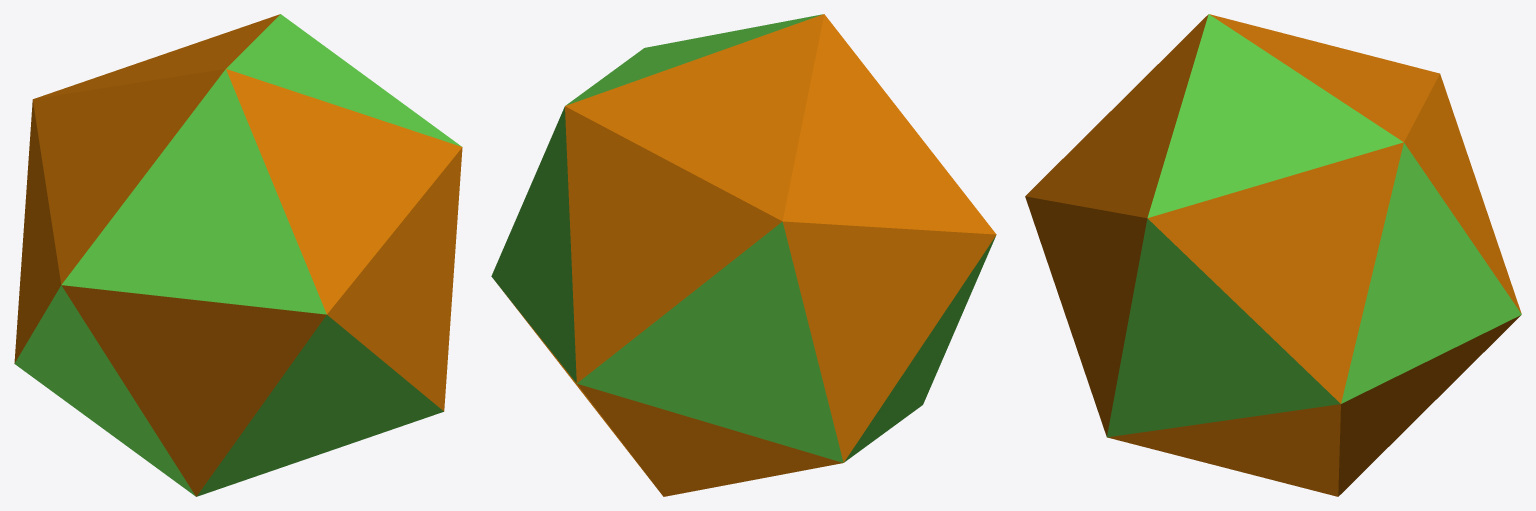
The model's file is TestGeo.gltf.
3 views of the same model, side by side, from view 1: azimuth 30°, elevation 25°; view 2: azimuth 150°, elevation 25°; view 3: azimuth 270°, elevation 25° (orthographic). The views are drawn at different scales.
Parts seen in each view (by area): view 1: Platonic; view 2: Platonic; view 3: Platonic.
Part boxes in pixels (left/top/right/bottom): Platonic: left=14, top=14, right=462, bottom=496; Platonic: left=491, top=14, right=996, bottom=496; Platonic: left=1025, top=14, right=1521, bottom=496.
Bounding box in the file's own units: 2.47 × 2.48 × 2.54.
